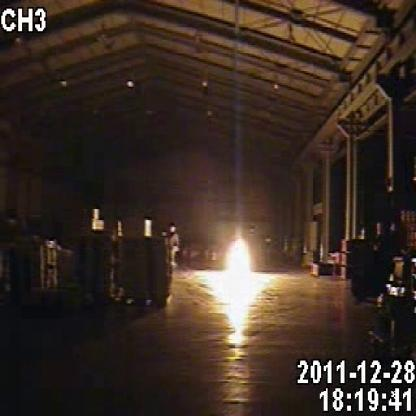fire: (205, 218, 304, 333)
